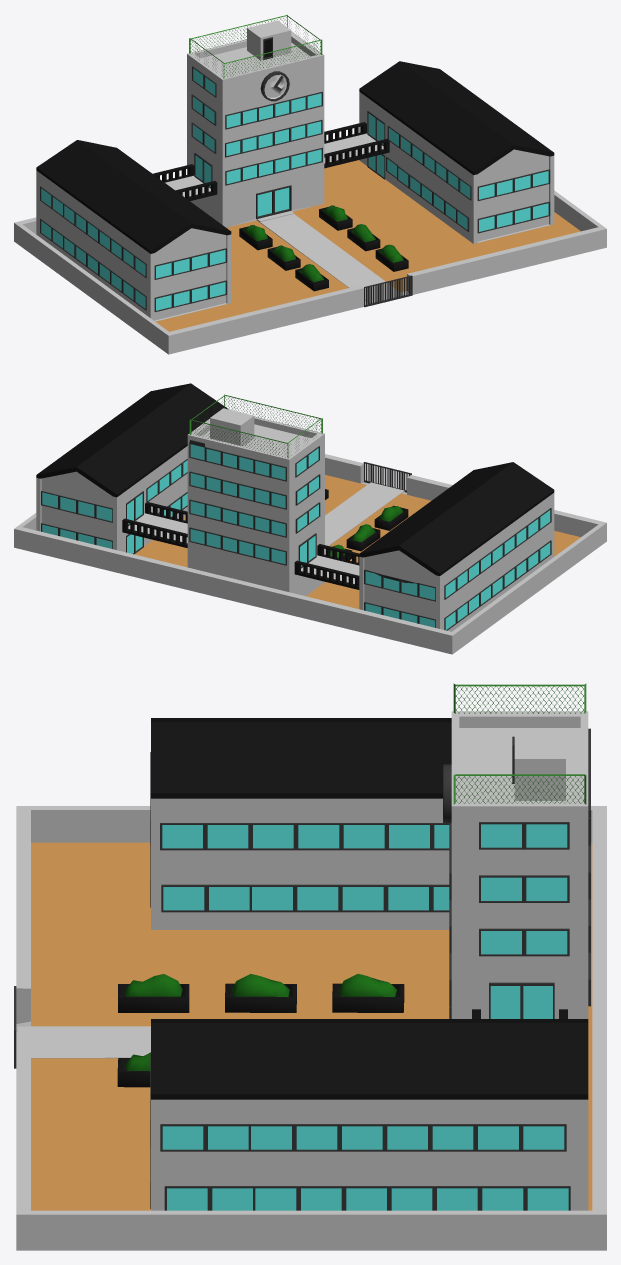
The model's file is escola.fbx.
The picture shows the model from 3 angles, top to bottom: view 1: azimuth 30°, elevation 25°; view 2: azimuth 150°, elevation 25°; view 3: azimuth 270°, elevation 25°; orthographic projection. The views are drawn at different scales.
Parts seen in each view (by area): view 1: paredes, patio, janela.064, canteiro, portão, relogio; view 2: paredes, patio, janela.064, canteiro, portão; view 3: paredes, patio, janela.064, canteiro.
Part boxes in pixels (x1,y1,x2,y2): paredes: [36, 14, 554, 321]; patio: [14, 160, 606, 354]; janela.064: [40, 66, 550, 312]; canteiro: [239, 205, 408, 291]; portão: [364, 275, 412, 307]; relogio: [260, 71, 289, 101]; paredes: [36, 383, 554, 631]; patio: [14, 454, 606, 654]; janela.064: [41, 440, 551, 630]; canteiro: [325, 489, 408, 559]; portão: [363, 462, 411, 492]; paredes: [17, 683, 588, 1210]; patio: [16, 806, 606, 1250]; janela.064: [150, 728, 590, 1210]; canteiro: [117, 974, 404, 1087].
Bounding box in the file's own units: 2705 × 984 × 1658.
